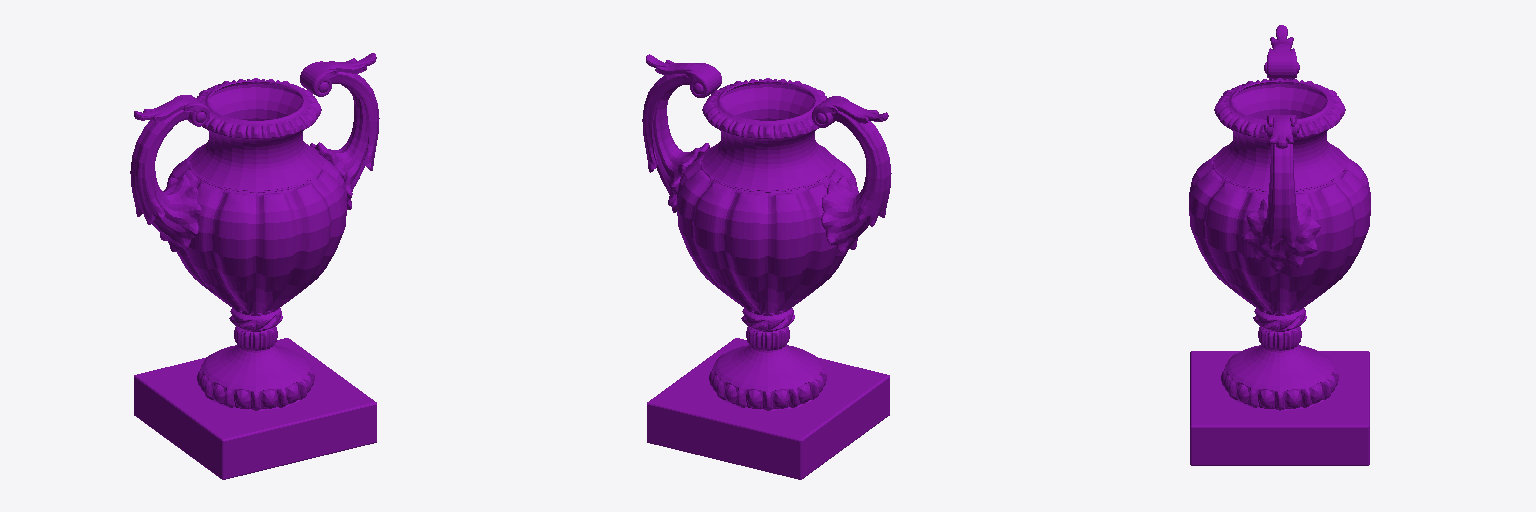
The model's file is cup.obj.
3 views of the same model, side by side, from view 1: azimuth 30°, elevation 25°; view 2: azimuth 150°, elevation 25°; view 3: azimuth 270°, elevation 25° (orthographic).
Visible parts, largest first — view 1: Cylinder01, Box01, Cylinder03, Cylinder02; view 2: Cylinder01, Box01, Cylinder03, Cylinder02; view 3: Cylinder01, Box01, Cylinder02, Cylinder03.
Boxes of the visible parts, box(x1,y1,x2,y2) form: Cylinder01: box(167, 78, 346, 410); Box01: box(134, 338, 376, 479); Cylinder03: box(130, 95, 209, 251); Cylinder02: box(300, 53, 379, 209); Cylinder01: box(677, 78, 856, 410); Box01: box(647, 338, 889, 479); Cylinder03: box(812, 96, 891, 253); Cylinder02: box(642, 54, 721, 212); Cylinder01: box(1189, 78, 1370, 410); Box01: box(1190, 351, 1369, 465); Cylinder02: box(1243, 115, 1320, 271); Cylinder03: box(1264, 25, 1299, 80).
Bounding box in the file's own units: 311 × 425 × 203.